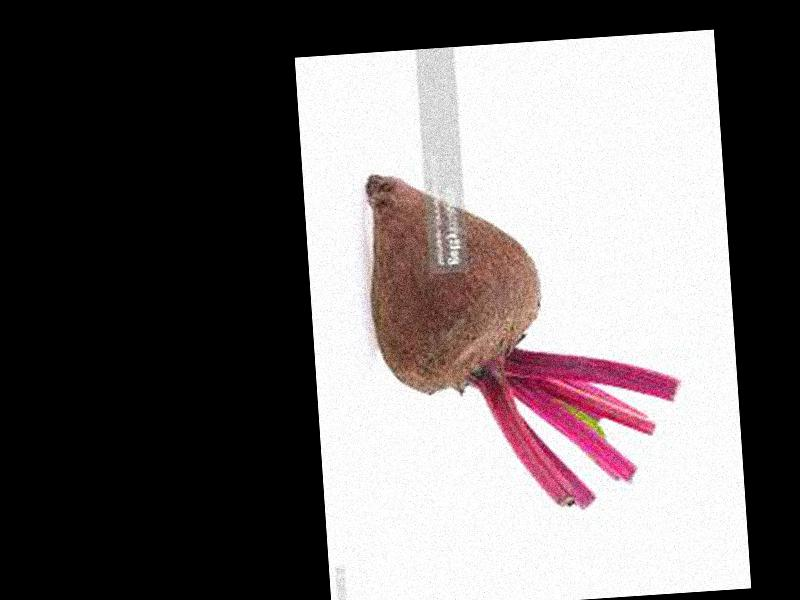Beet: (364, 155, 687, 522)
